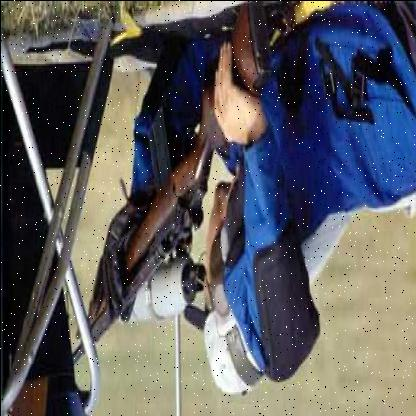rifle: (56, 2, 276, 396)
